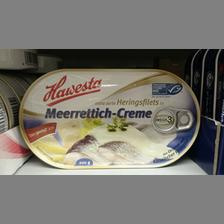Fisch: (17, 68, 200, 168)
